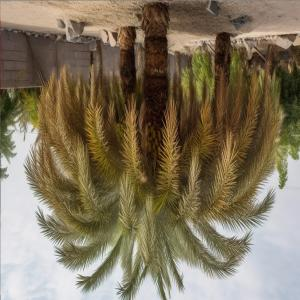palm tree: (22, 4, 286, 298)
